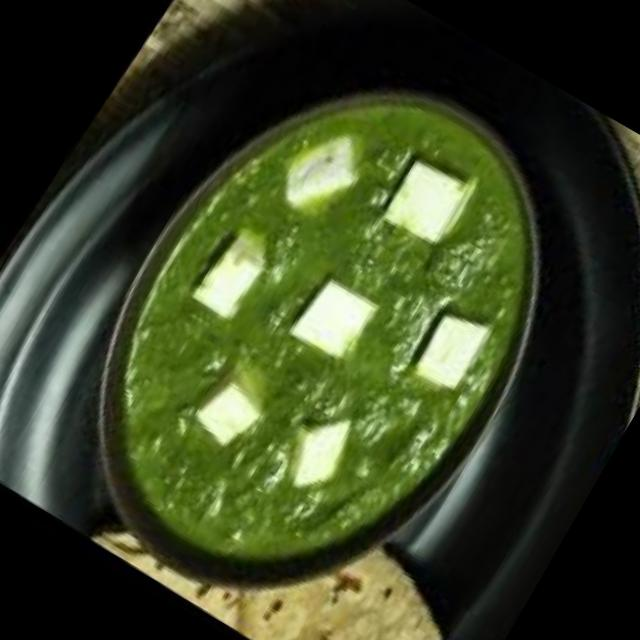palak_paneer: (31, 23, 602, 640)
